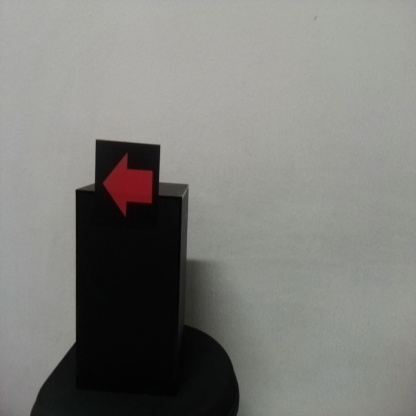id_4: (95, 141, 159, 230)
